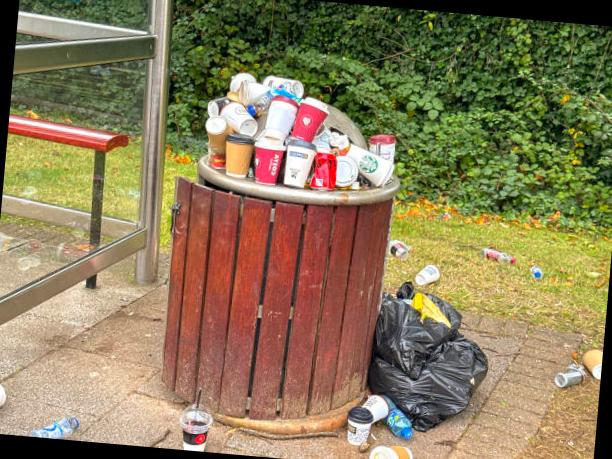trash: (356, 335, 502, 436), (365, 271, 482, 379), (256, 84, 302, 154), (178, 384, 222, 452), (234, 74, 288, 122), (284, 94, 329, 149), (333, 402, 384, 446), (366, 122, 406, 176), (27, 412, 99, 442), (216, 132, 256, 184), (347, 143, 389, 190), (376, 400, 420, 442), (218, 66, 256, 108), (303, 148, 340, 190), (279, 142, 307, 197), (200, 90, 239, 127), (220, 103, 254, 145), (250, 141, 280, 188), (201, 114, 228, 164), (326, 148, 356, 192), (540, 358, 584, 388), (260, 72, 302, 102), (573, 336, 604, 376), (478, 240, 520, 268), (0, 374, 19, 434), (365, 438, 414, 459), (240, 72, 272, 103), (356, 386, 386, 419), (416, 259, 442, 292), (386, 236, 412, 258), (524, 258, 544, 280)
trash_can_overflow: (44, 48, 553, 459)
